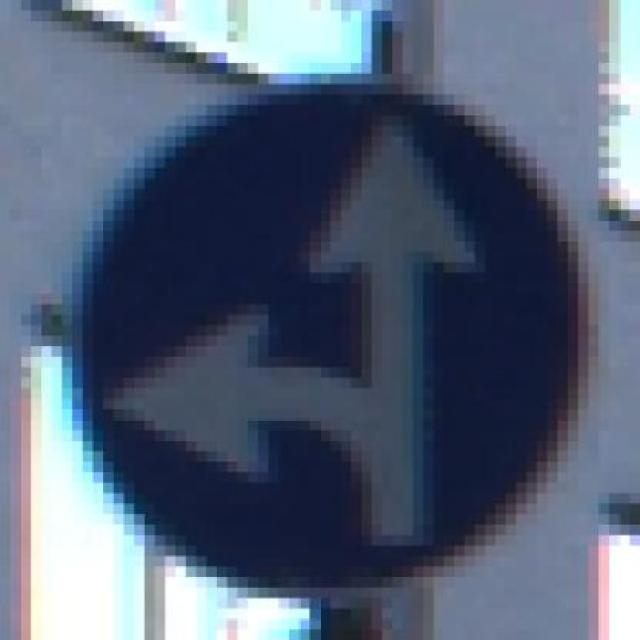Go straight or turn left: (42, 52, 609, 610)
